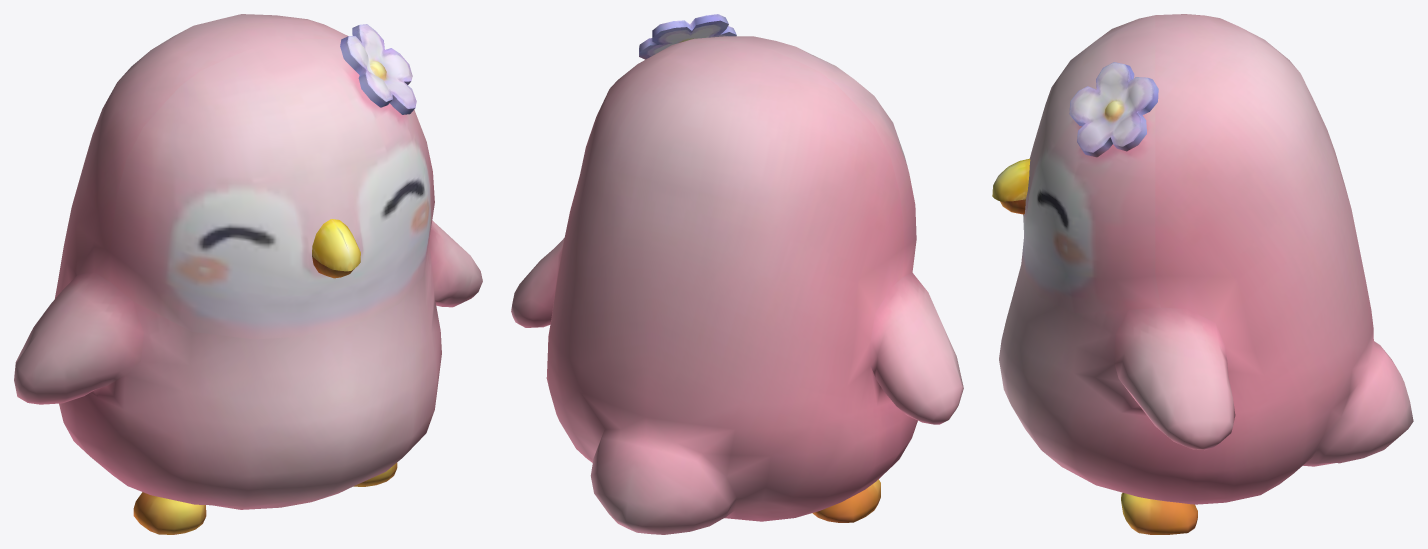
Rendered from pet_00002.glb.
3 views of the same model, side by side, from view 1: azimuth 30°, elevation 25°; view 2: azimuth 150°, elevation 25°; view 3: azimuth 270°, elevation 25° (orthographic). The views are drawn at different scales.
Size of the model in its own units: 1 by 0.963 by 0.8255.
2 materials, 2 textured.
